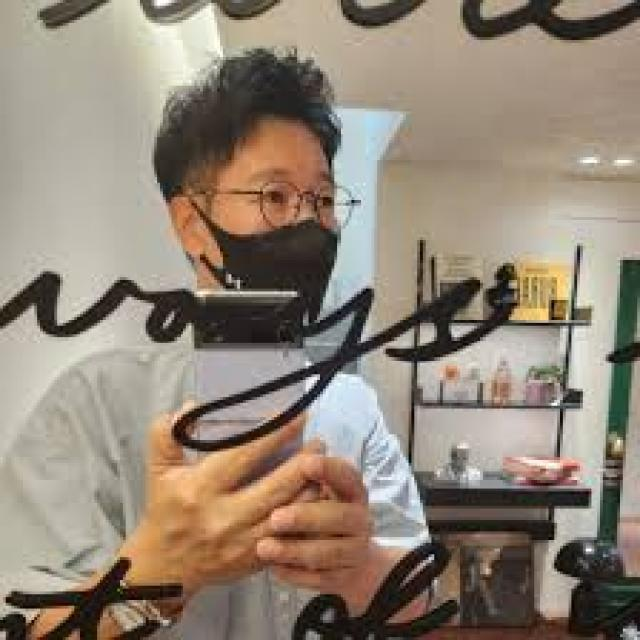Phone: (190, 288, 307, 481)
